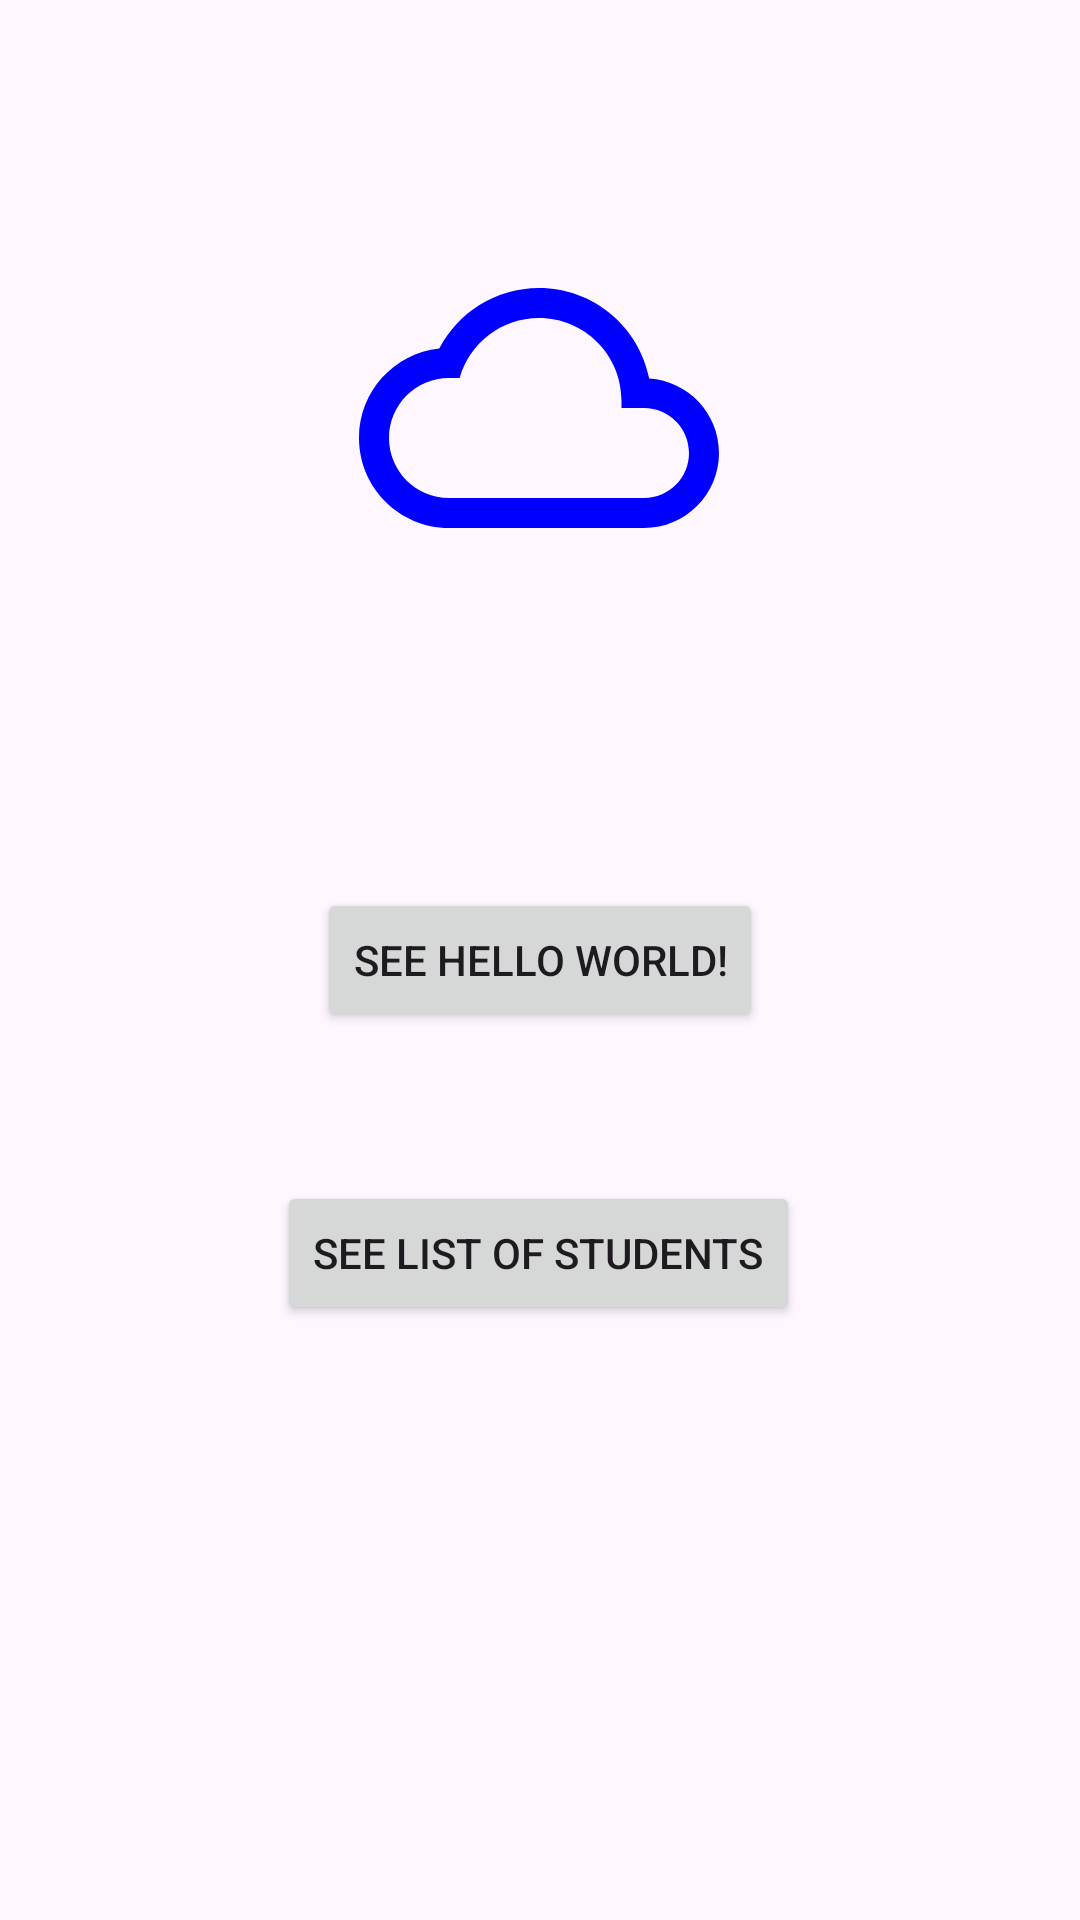

Icons on this 1080x1920 Android screen, each with its box as (x1, y1, x2, y2):
cloud: (359, 288, 719, 528)
